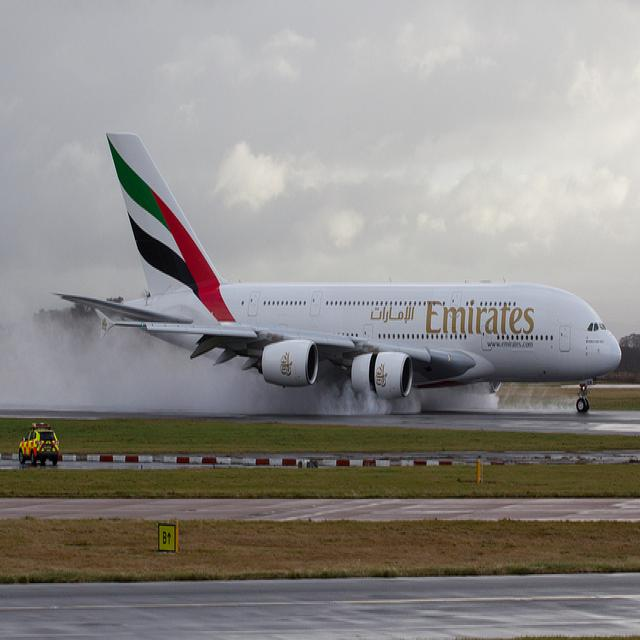airplane: (50, 129, 623, 416)
